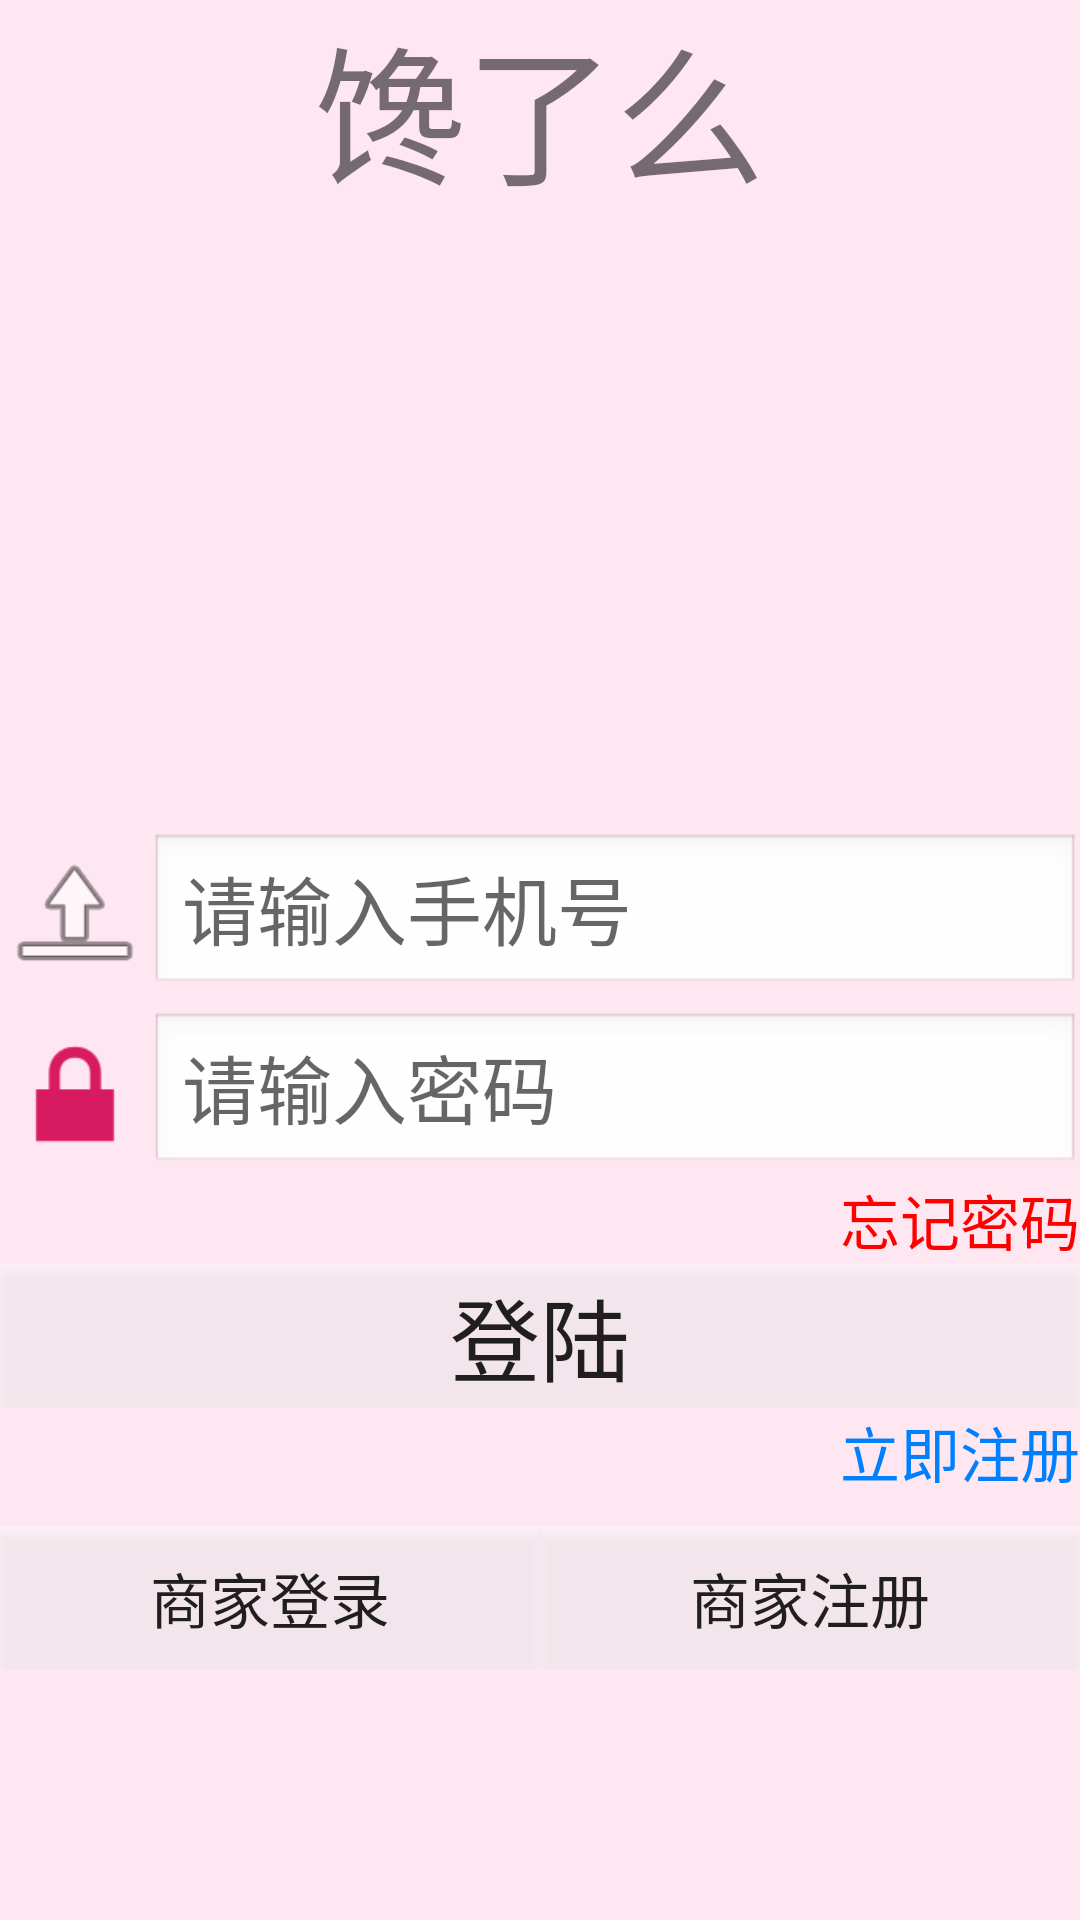

Named icons in this screenshot (1080px x 1920px) and their centers, [x,y]:
lock: [75,1094]
upload: [75,913]
